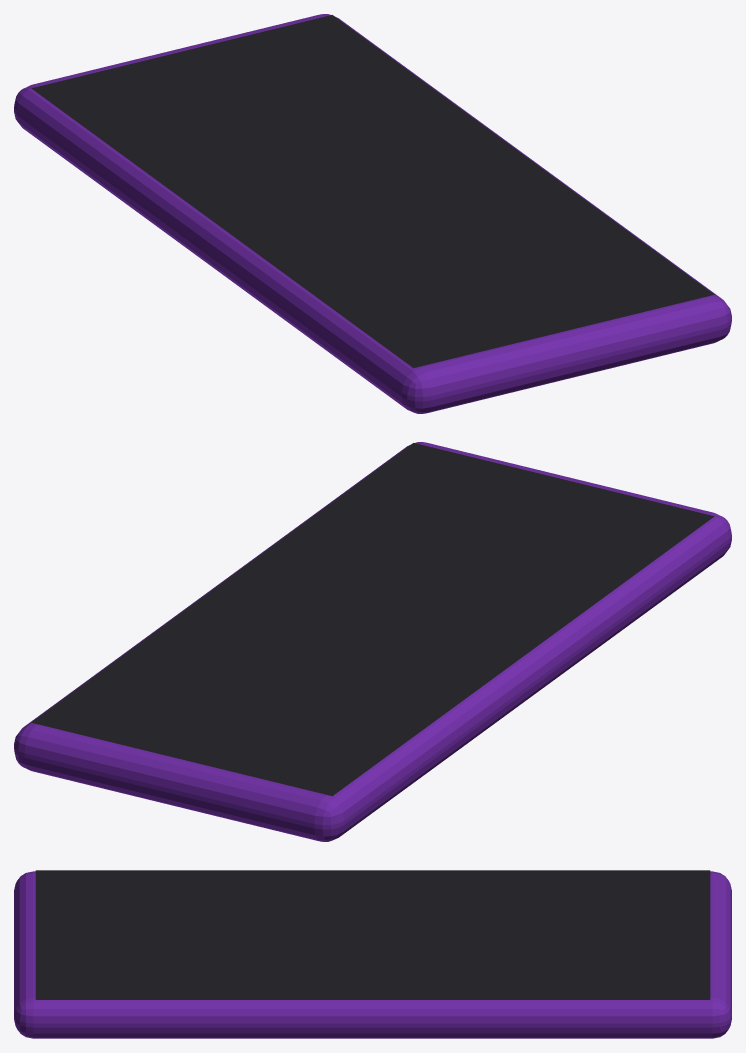
File: oppo-a-model-346-budget-2022.glb
The picture shows the model from 3 angles, top to bottom: view 1: azimuth 30°, elevation 25°; view 2: azimuth 150°, elevation 25°; view 3: azimuth 270°, elevation 25°; orthographic projection. The views are drawn at different scales.
Parts seen in each view (by area): view 1: Phone_Screen, Phone_Body; view 2: Phone_Screen, Phone_Body; view 3: Phone_Screen, Phone_Body.
Boxes of the visible parts, <box> form: Phone_Screen: <box>31,15,714,368</box>; Phone_Body: <box>14,14,731,413</box>; Phone_Screen: <box>31,443,714,796</box>; Phone_Body: <box>14,442,731,841</box>; Phone_Screen: <box>35,870,710,999</box>; Phone_Body: <box>14,871,731,1038</box>.
Bounding box in the file's own units: 0.0762 × 0.0099 × 0.1639.
